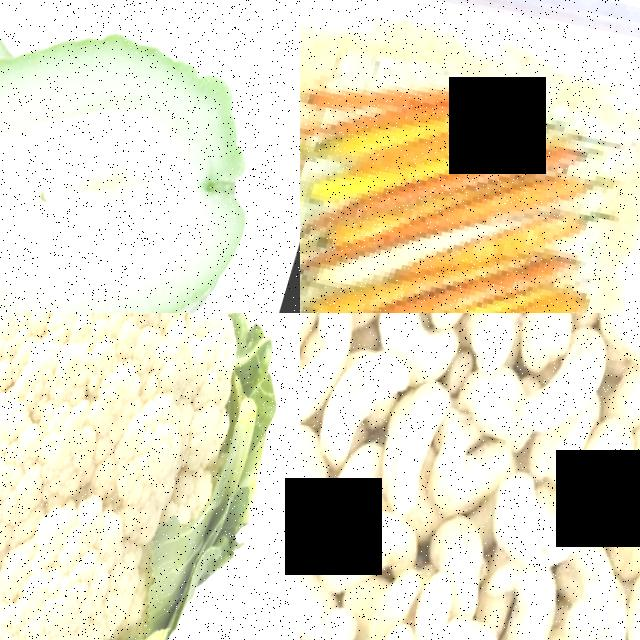cashew: (308, 342, 415, 498), (470, 485, 587, 588), (448, 351, 546, 464), (376, 383, 451, 526), (525, 333, 615, 450), (561, 425, 631, 544), (300, 460, 357, 574), (482, 574, 573, 640), (590, 313, 640, 384), (600, 345, 640, 432)
cauliflower: (0, 313, 300, 640)
chayote: (0, 0, 300, 313)
